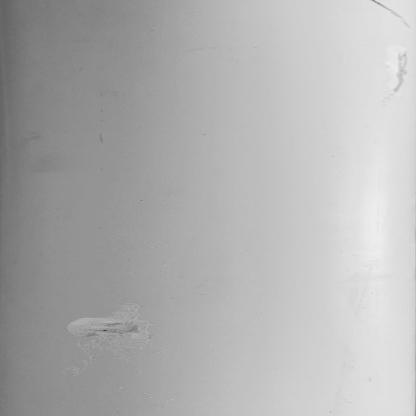sunshang: (65, 304, 154, 357), (385, 49, 413, 102), (371, 1, 413, 34)
